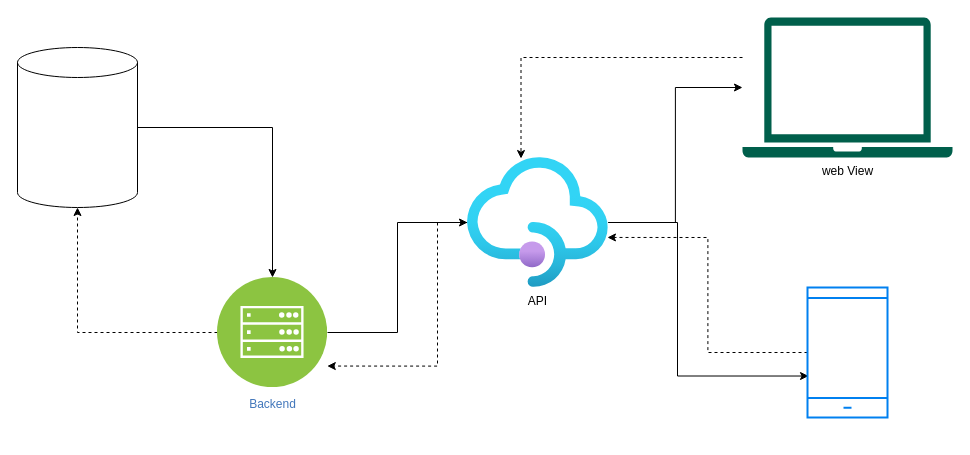
The diagram is 970 pixels wide and 455 high, and some of its shapes have lost their labels. The centre of each missing label's shape, as x and y in pixels:
"database" belongs at point 77,127.
"Mobile View" belongs at point 847,352.
